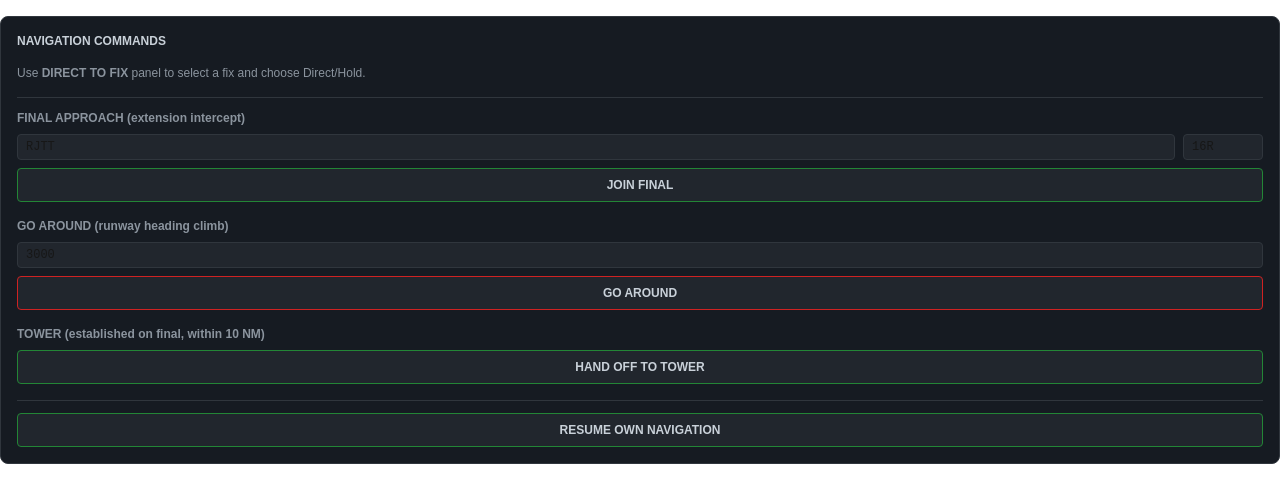
FlightPlanControl › shows success message when resumeNavigation succeeds
This screenshot has width=1280, height=501.
Click the button "RESUME OWN NAVIGATION".
click(640, 430)  # box [17,413,1263,447]
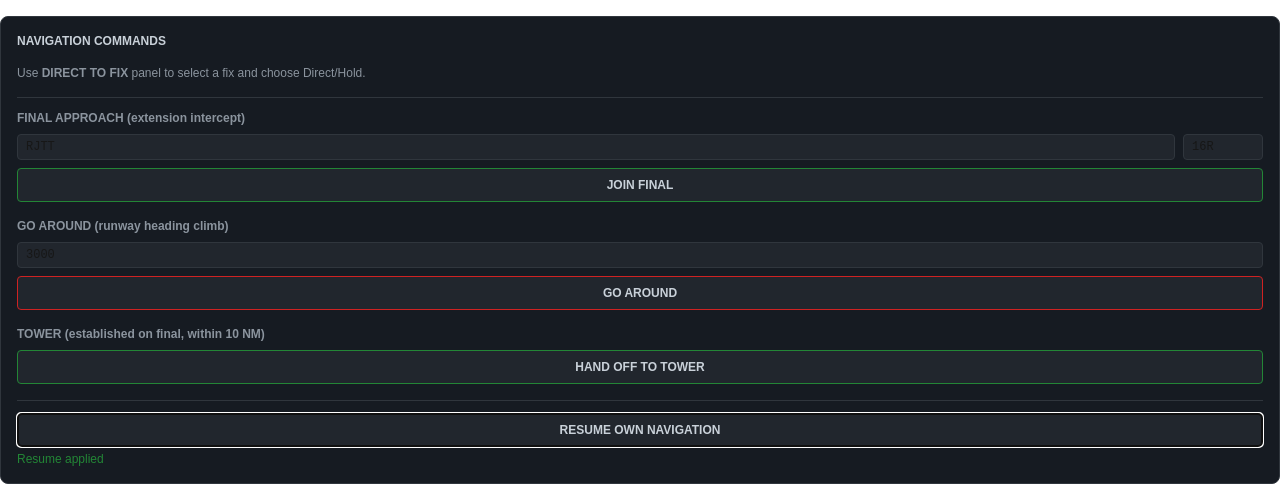
Expected: the text "Resume applied" is shown, [17,452,104,466]
